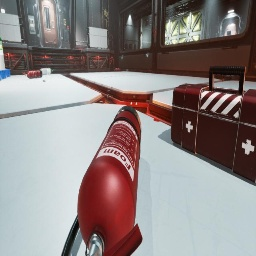0: (0, 37, 6, 70), (40, 68, 53, 75)
EmergencyPhone ,: (63, 17, 66, 26)
FireAlarm ,: (154, 29, 156, 35), (67, 26, 69, 31)
FireExtinguisher ]: (60, 105, 142, 256), (22, 70, 43, 79), (114, 68, 121, 72), (114, 70, 115, 71), (26, 74, 27, 74)
FirstAidBox ,: (171, 65, 256, 183)
SafetySwitchPanel ,: (28, 15, 36, 35)
